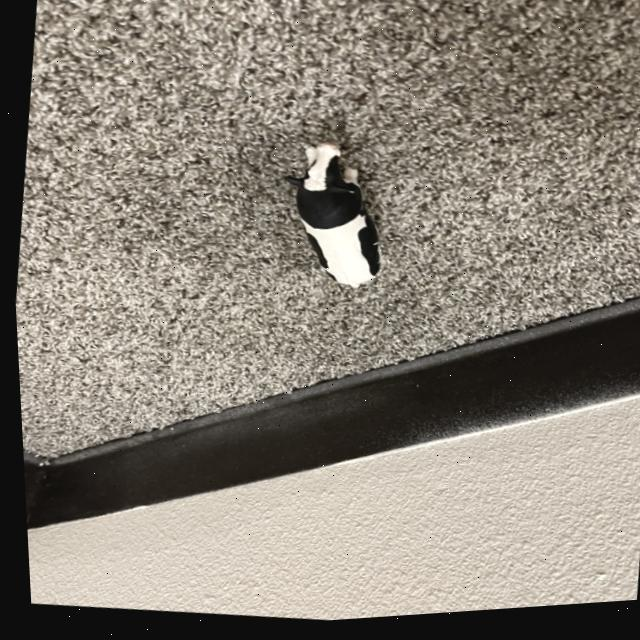cow: (276, 143, 389, 301)
